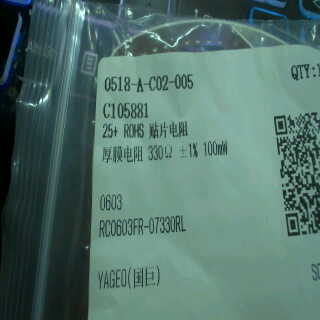330R: (144, 143, 177, 166)
